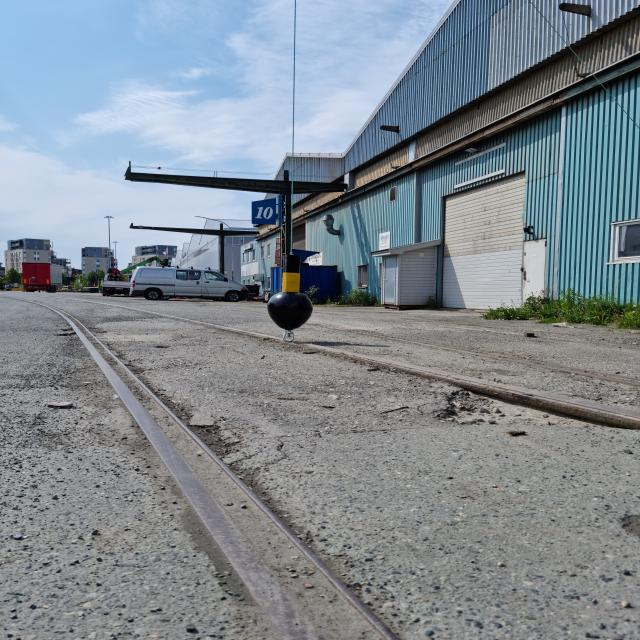east: (268, 255, 313, 330)
